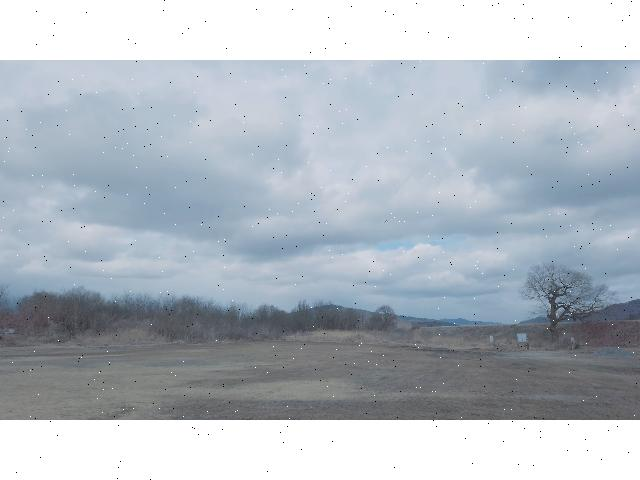Anti-Drone: (377, 217, 395, 227)
